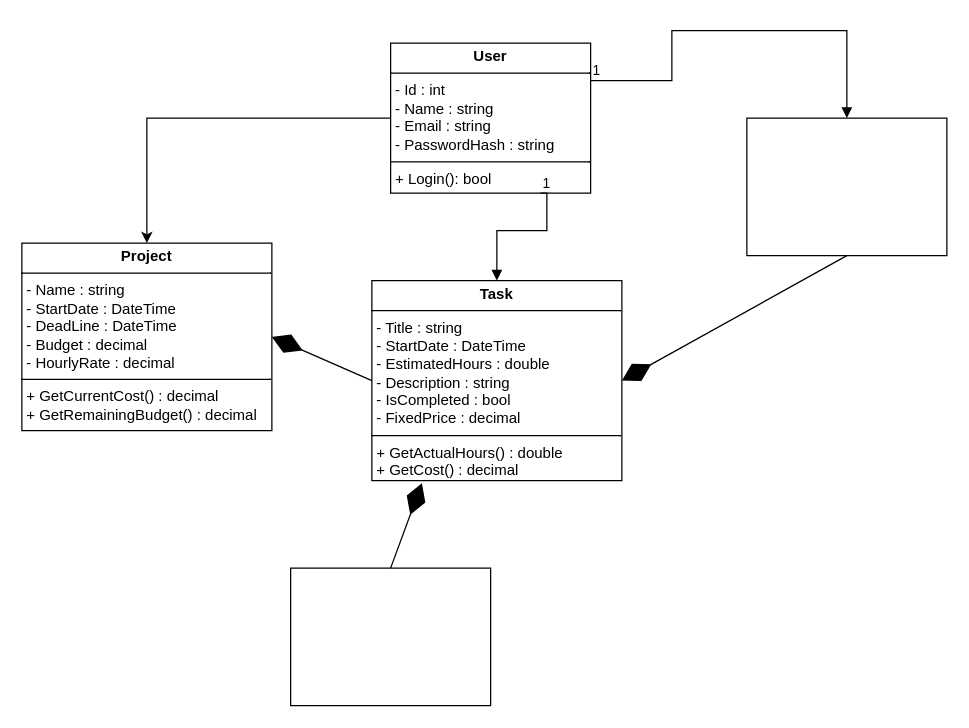
This 969x728 diagram has some shape labels left out. The shapes that lost their labels are listed below. From the top down, each one's centre as x and y in pixels, then its label:
At point (846, 186): "Timelog - Date : DateTime - Hours : double - Description: string".
At point (390, 636): "Attatchment - FileName : string - FilePath : string - UploadedAt : DateTime".
